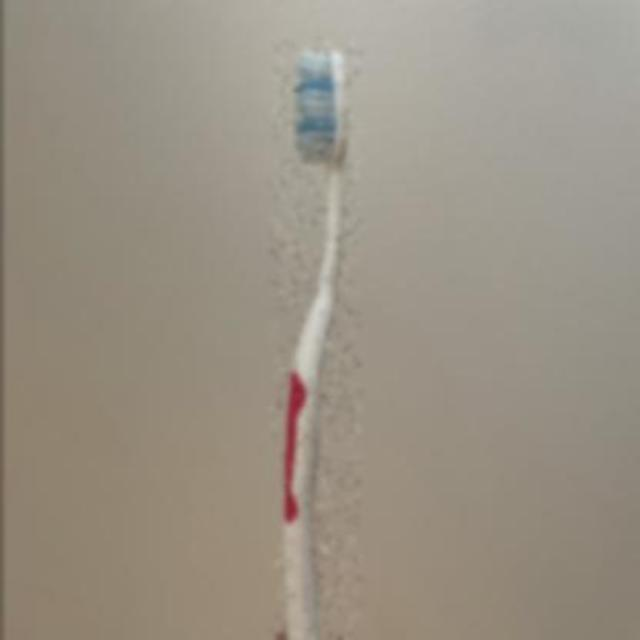toothbrush: (270, 38, 360, 640)
